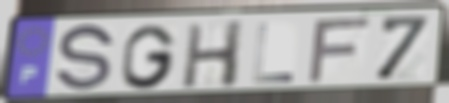7: (377, 15, 433, 84)
F: (304, 15, 375, 86)
G: (119, 23, 179, 91)
H: (179, 18, 247, 90)
L: (250, 21, 297, 86)
S: (52, 22, 117, 96)
